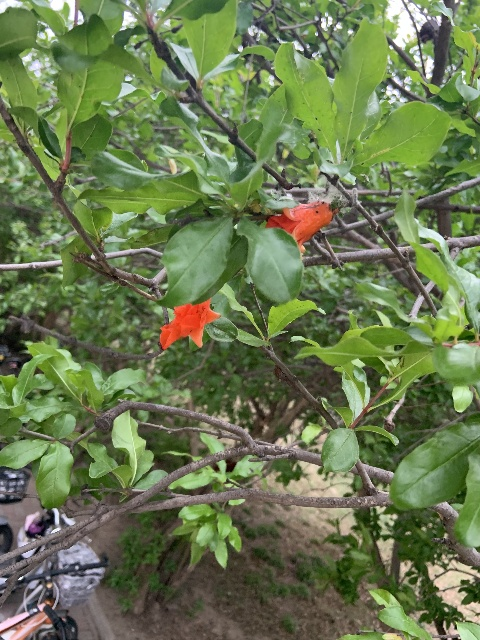flower: (265, 200, 335, 255), (159, 299, 220, 350)
